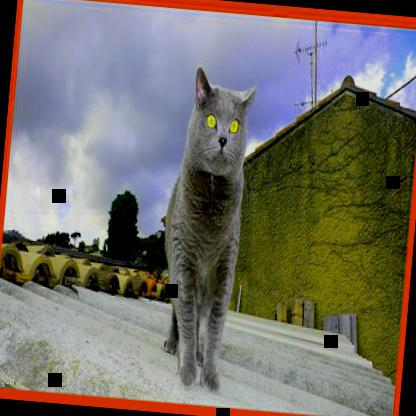cat: (151, 65, 258, 394)
